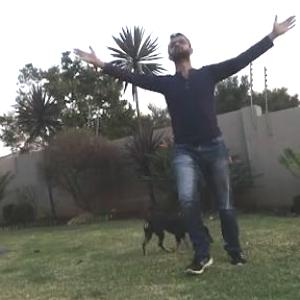takeoff: (94, 34, 292, 256)
